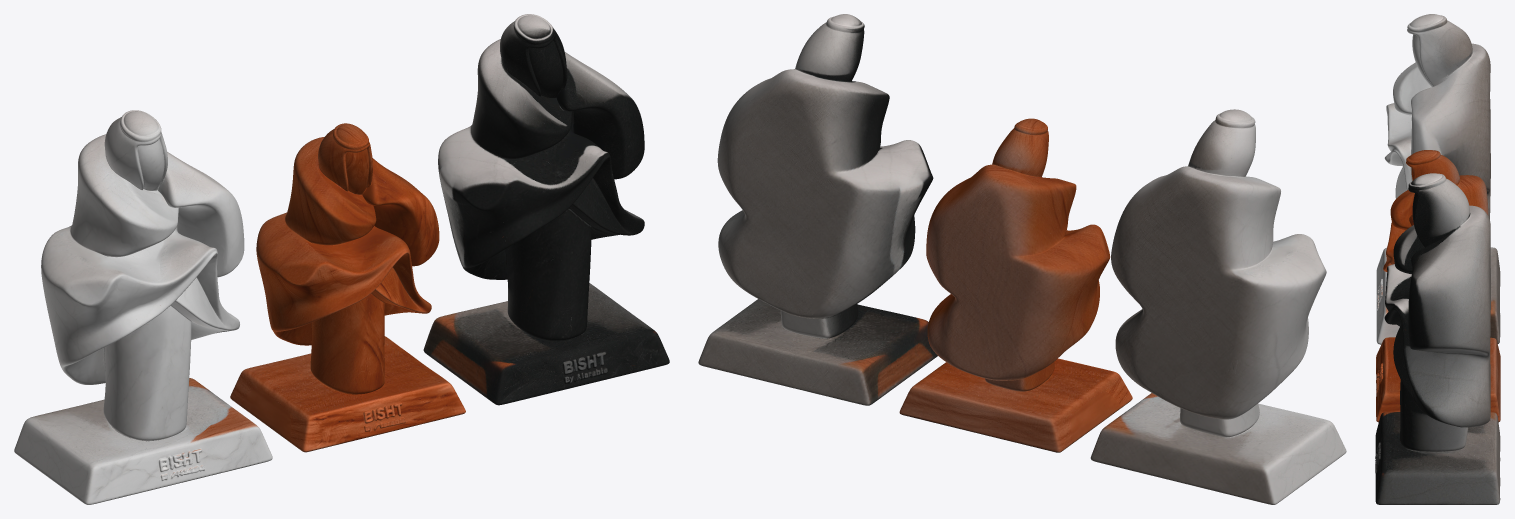
The model's file is 01-البشت.glb.
3 renders of one model, left to right at view 1: azimuth 30°, elevation 25°; view 2: azimuth 150°, elevation 25°; view 3: azimuth 270°, elevation 25°, orthographic. The views are drawn at different scales.
Size of the model in its own units: 1.9 by 1.06 by 0.4195.
Materials: 1 (1 with a texture image).
